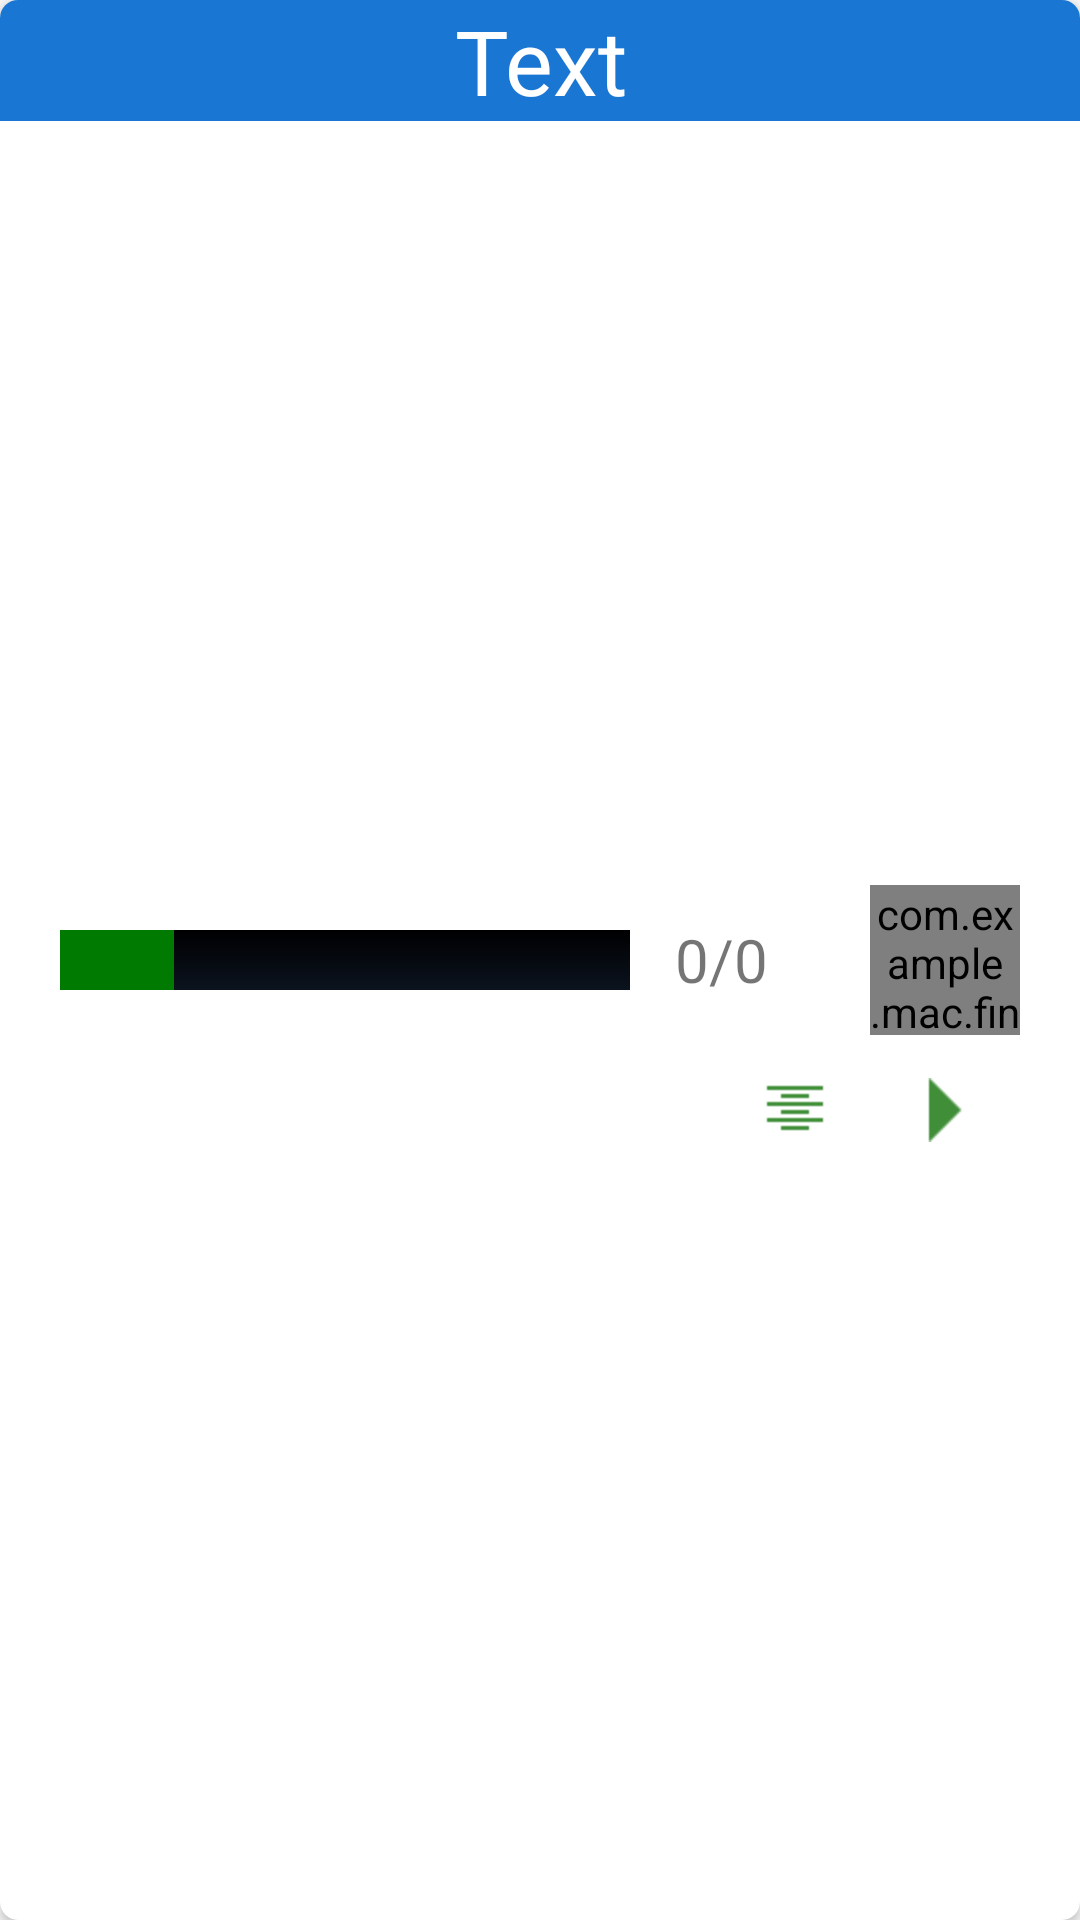

Screen size 1080x1920. Icon name, then its center in pixels as (x,y):
arrow: (945,1110)
